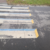zebra: (1, 4, 37, 38)
